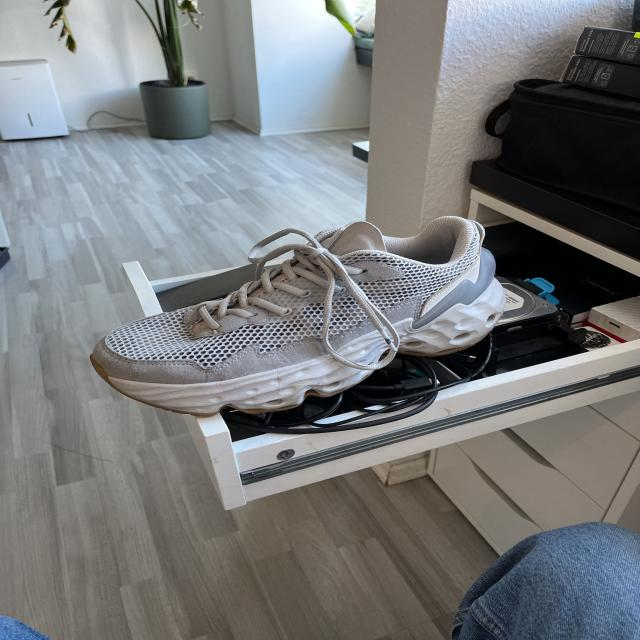shoes: (89, 215, 509, 419)
